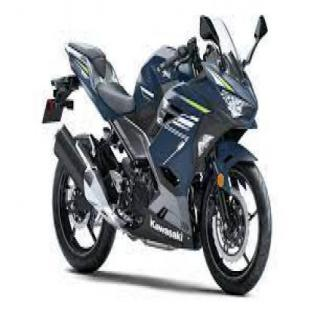Motocicleta: (37, 6, 274, 297)
